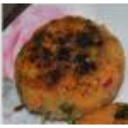cutlet: (16, 17, 122, 109)
